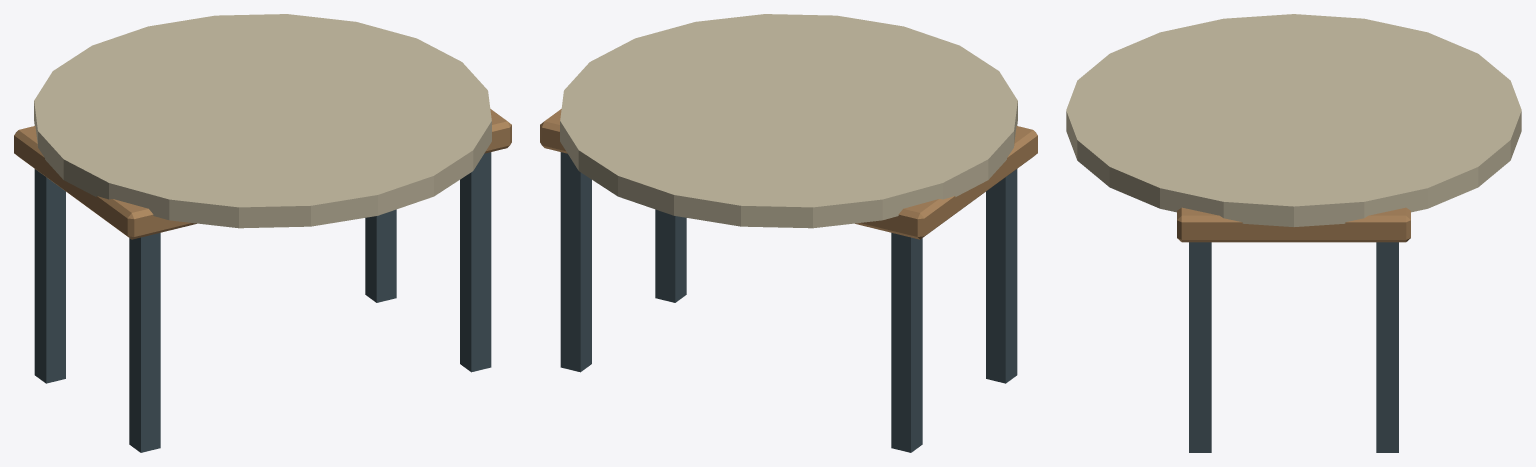
File: round_cafe_table.glb
The picture shows the model from 3 angles, left to right: view 1: azimuth 30°, elevation 25°; view 2: azimuth 150°, elevation 25°; view 3: azimuth 270°, elevation 25°; orthographic projection.
Parts seen in each view (by area): view 1: round_cafe_table; view 2: round_cafe_table; view 3: round_cafe_table.
Boxes of the visible parts, x1,y1,x2,y2 form: round_cafe_table: (14, 14, 511, 452); round_cafe_table: (540, 14, 1037, 452); round_cafe_table: (1066, 14, 1521, 452).
Bounding box in the file's own units: 1.4 × 0.875 × 1.4.
